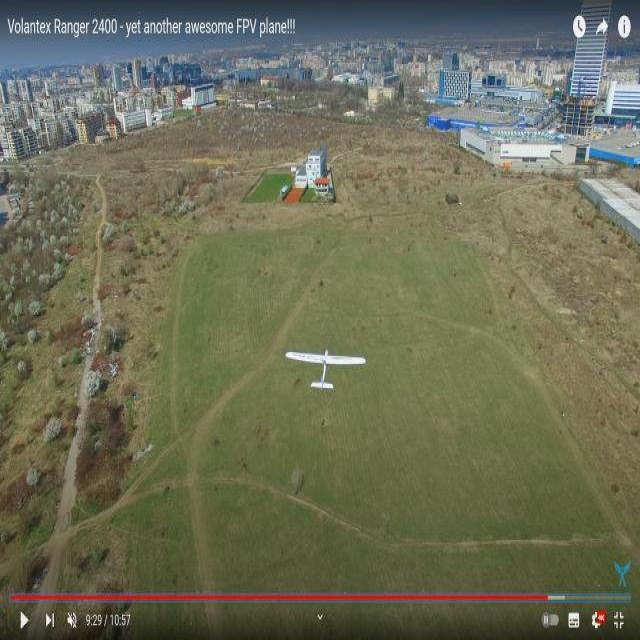UAV: (288, 332, 376, 414)
